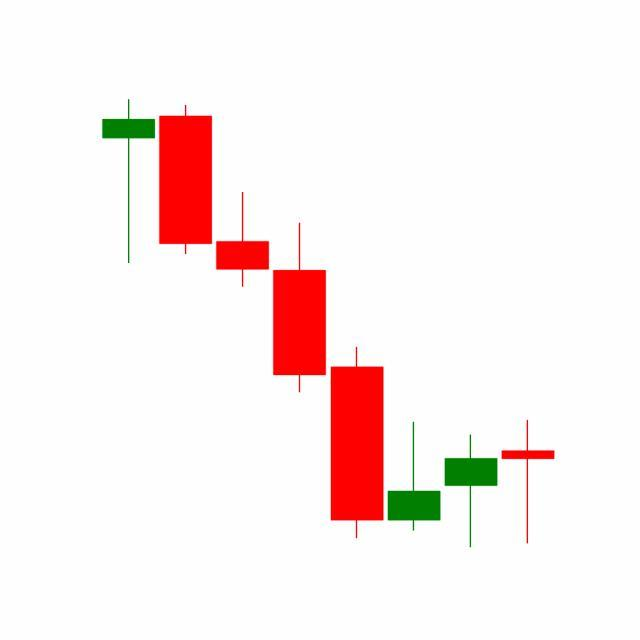Hikkake Pattern: (214, 188, 501, 549)
